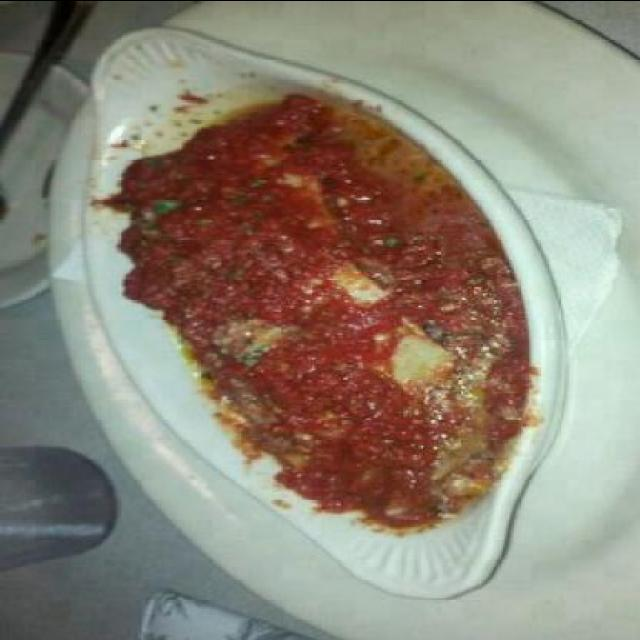Lasagna: (85, 83, 589, 540)
